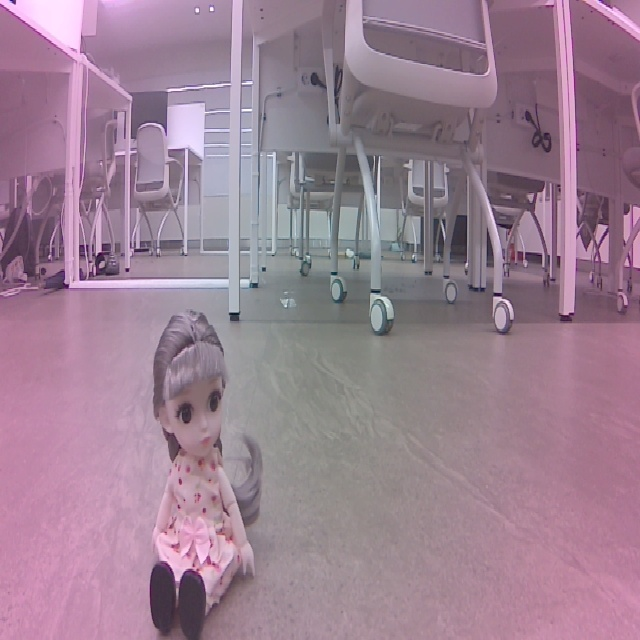장애물: (139, 298, 261, 633)
